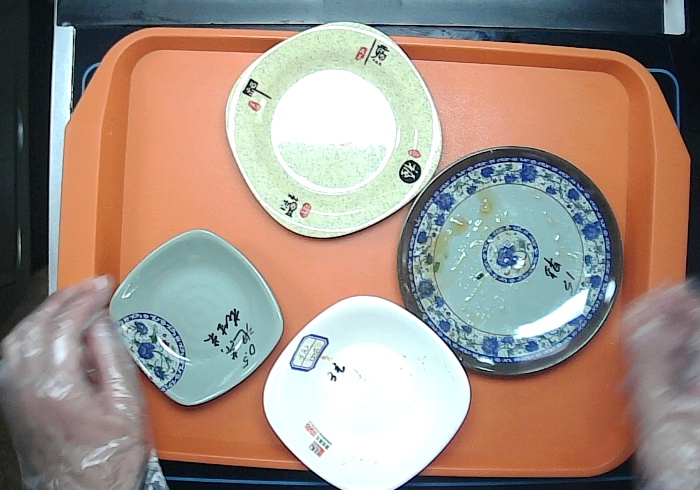NLDX-Bai_Se_Xiao_Fang_Die: (258, 291, 473, 488)
NLDX-Fu_Zi_Fang_Die: (216, 16, 451, 243)
NLDX-Qing_Hua_Xiao_Fang_Die: (105, 226, 290, 408)
NLDX-Qing_Hua_Yuan_Die: (390, 143, 628, 380)
